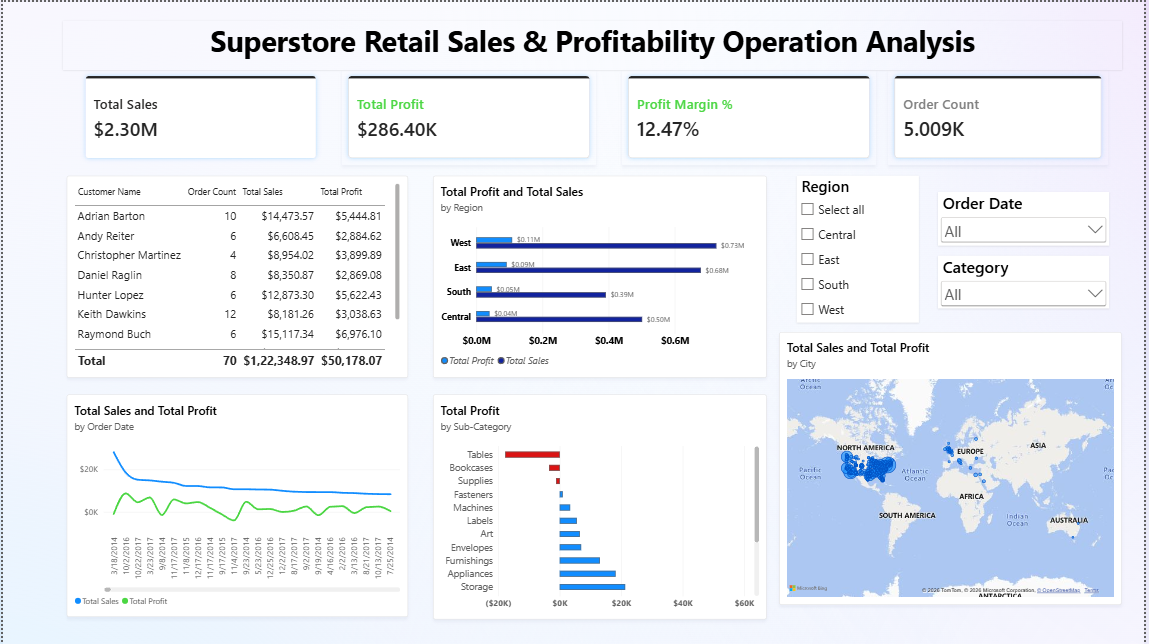

The dashboard page shown, as its layout file describes it:
{"tool":"powerbi","page":{"name":"Page 1","canvas":[1920,1080],"ordinal":0},"visuals":[{"type":"cardVisual","fields":{"Data":["Sample - Superstore.Total Sales"]},"box":[127.6,113.2,409.6,160.5],"z":0},{"type":"cardVisual","fields":{"Data":["Sample - Superstore.Total Profit"]},"box":[570.2,113.2,428.1,160.5],"z":1000},{"type":"cardVisual","fields":{"Data":["Sample - Superstore.Profit Margin %"]},"box":[1041.5,113.2,428.1,160.5],"z":2000},{"type":"cardVisual","fields":{"Data":["Sample - Superstore.Order Count"]},"box":[1490.2,113.2,370.5,160.5],"z":3000},{"type":"map","fields":{"Category":["Sample - Superstore.City"],"Size":["Sample - Superstore.Total Sales"]},"box":[1307,555.7,576.3,459],"z":4000},{"type":"clusteredBarChart","fields":{"Category":["Sample - Superstore.Region"],"Y":["Sample - Superstore.Total Profit","Sample - Superstore.Total Sales"]},"box":[724.5,292.3,561.9,339.6],"z":5000},{"type":"clusteredBarChart","fields":{"Category":["Sample - Superstore.Sub-Category"],"Y":["Sample - Superstore.Total Profit"]},"box":[724.5,660.7,561.9,378.7],"z":6000},{"type":"lineChart","fields":{"Category":["Sample - Superstore.Order Date"],"Y":["Sample - Superstore.Total Sales","Sample - Superstore.Total Profit"]},"box":[107,660.7,574.3,374.6],"z":7000},{"type":"tableEx","fields":{"Values":["Sample - Superstore.Customer Name","Sample - Superstore.Order Count","Sample - Superstore.Total Sales","Sample - Superstore.Total Profit"]},"box":[107,292.3,574.3,339.6],"z":8000},{"type":"slicer","fields":{"Values":["Sample - Superstore.Region"]},"box":[1358.5,292.3,154.4,247],"z":9000},{"type":"slicer","fields":{"Values":["Sample - Superstore.Category"]},"box":[1572.6,426.1,288.2,88.5],"z":10000},{"type":"slicer","fields":{"Values":["Sample - Superstore.Order Date"]},"box":[1572.6,319,288.2,90.6],"z":11000},{"type":"textbox","box":[100.9,30.9,1782.5,82.3],"z":12000}]}

Visuals, with their boxes in screenshot pixels (x1, y1, x2, y2), scaled from the page's 1920x1080 canvas onto the 1149x644 screenshot:
cardVisual - Sample - Superstore.Total Sales: locate(76, 68, 321, 163)
cardVisual - Sample - Superstore.Total Profit: locate(341, 68, 597, 163)
cardVisual - Sample - Superstore.Profit Margin %: locate(623, 68, 879, 163)
cardVisual - Sample - Superstore.Order Count: locate(892, 68, 1114, 163)
map - Sample - Superstore.City x Sample - Superstore.Total Sales: locate(782, 331, 1127, 605)
clusteredBarChart - Sample - Superstore.Region x Sample - Superstore.Total Profit: locate(434, 174, 770, 377)
clusteredBarChart - Sample - Superstore.Sub-Category x Sample - Superstore.Total Profit: locate(434, 394, 770, 620)
lineChart - Sample - Superstore.Order Date x Sample - Superstore.Total Sales: locate(64, 394, 408, 617)
tableEx - Sample - Superstore.Customer Name x Sample - Superstore.Order Count: locate(64, 174, 408, 377)
slicer - Sample - Superstore.Region: locate(813, 174, 905, 322)
slicer - Sample - Superstore.Category: locate(941, 254, 1114, 307)
slicer - Sample - Superstore.Order Date: locate(941, 190, 1114, 244)
textbox: locate(60, 18, 1127, 68)
